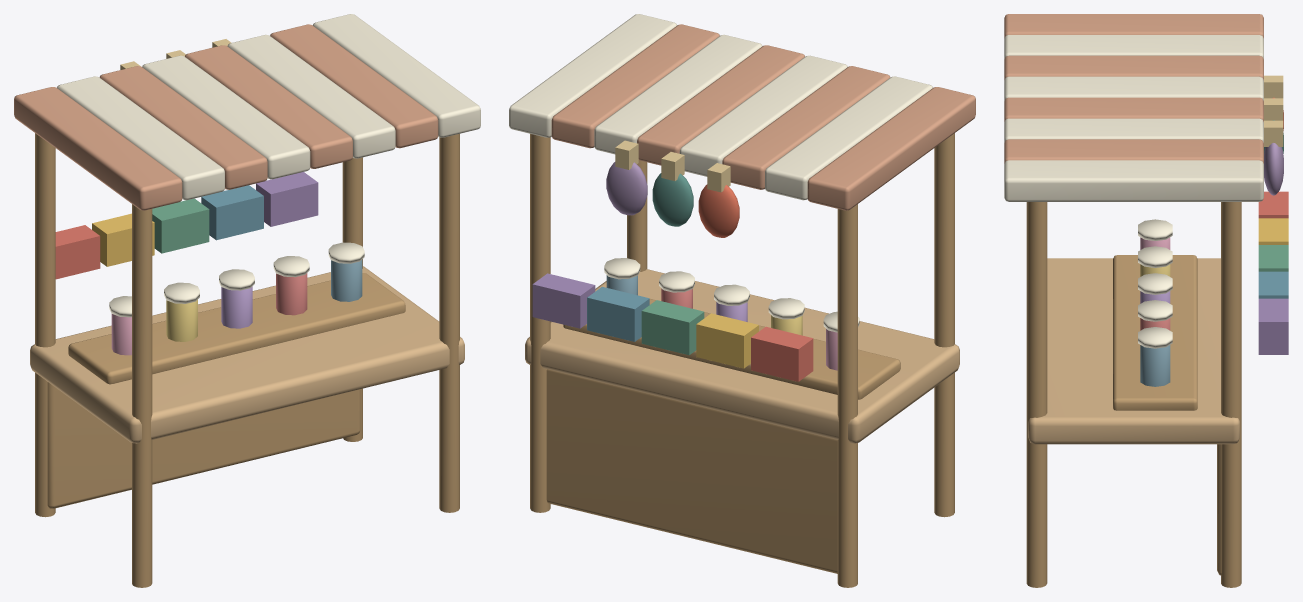
The model's file is dye.glb.
The picture shows the model from 3 angles, left to right: view 1: azimuth 30°, elevation 25°; view 2: azimuth 150°, elevation 25°; view 3: azimuth 270°, elevation 25°; orthographic projection.
Size of the model in its own units: 2.24 by 2.57 by 1.61.
